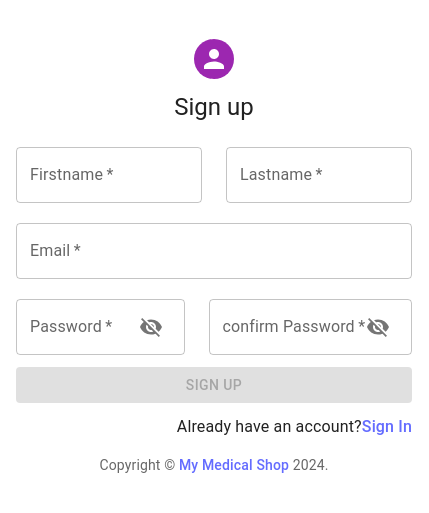
it: Register › Button must be disabled when only Email exists and appropriate required error message must be shown
Type "vaishnavi@gmail.com" into the field with test id "sign-up-email" at (214, 251), box [16,223,412,279]
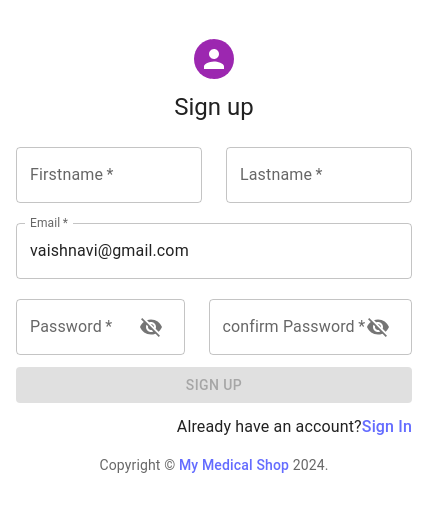
Leave the password field with test id "sign-up-confirm-password", box [208,299,350,355]
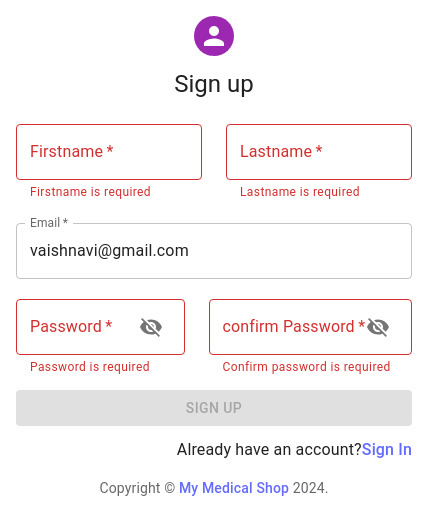
Result: the text "Firstname is required" is shown at [30,185,151,199]
Result: the text "Lastname is required" is shown at [240,185,360,199]
Result: the text "Password is required" is shown at [30,358,170,378]
